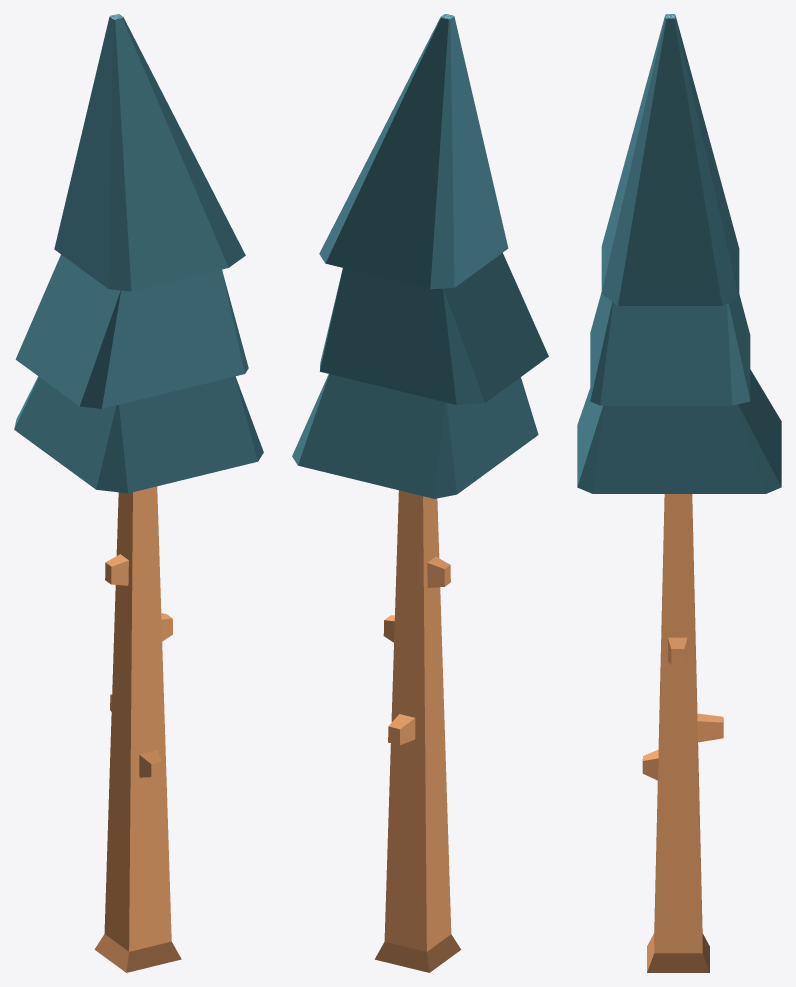
File: tree_pine_tallSquare_detailed.obj
The picture shows the model from 3 angles, left to right: view 1: azimuth 30°, elevation 25°; view 2: azimuth 150°, elevation 25°; view 3: azimuth 270°, elevation 25°; orthographic projection.
Parts seen in each view (by area): view 1: tree_pine_tallSquare_detailed; view 2: tree_pine_tallSquare_detailed; view 3: tree_pine_tallSquare_detailed.
Part boxes in pixels (x1=…): tree_pine_tallSquare_detailed: x1=14, y1=14, x2=263, y2=972; tree_pine_tallSquare_detailed: x1=292, y1=14, x2=548, y2=972; tree_pine_tallSquare_detailed: x1=577, y1=14, x2=781, y2=972.
Bounding box in the file's own units: 3.86 × 19.7 × 3.92.
